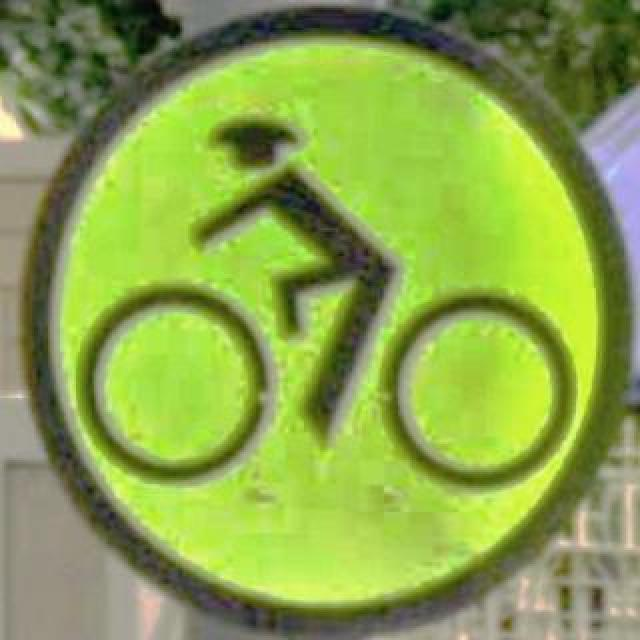bike lane: (22, 6, 634, 636)
